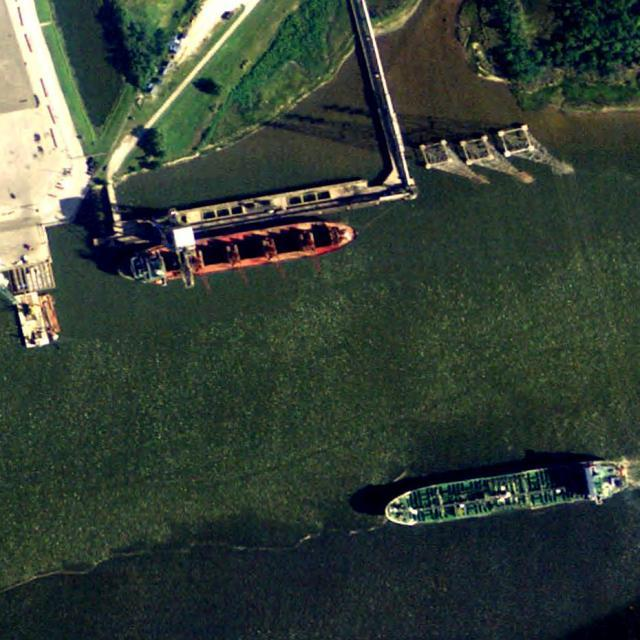Cargo: (125, 213, 360, 287)
Dock: (108, 170, 416, 253)
Oil Tanker: (380, 454, 633, 537)
